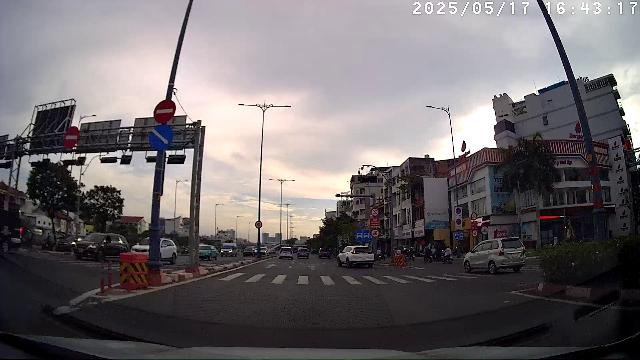102-cam-di-nguoc-chieu: (152, 99, 175, 124), (63, 126, 79, 148)
127-toc-do-toi-da-60: (371, 229, 379, 238)
302a-huong-phai-di-vong-chuong-ngai-vat-1: (148, 124, 174, 150)
